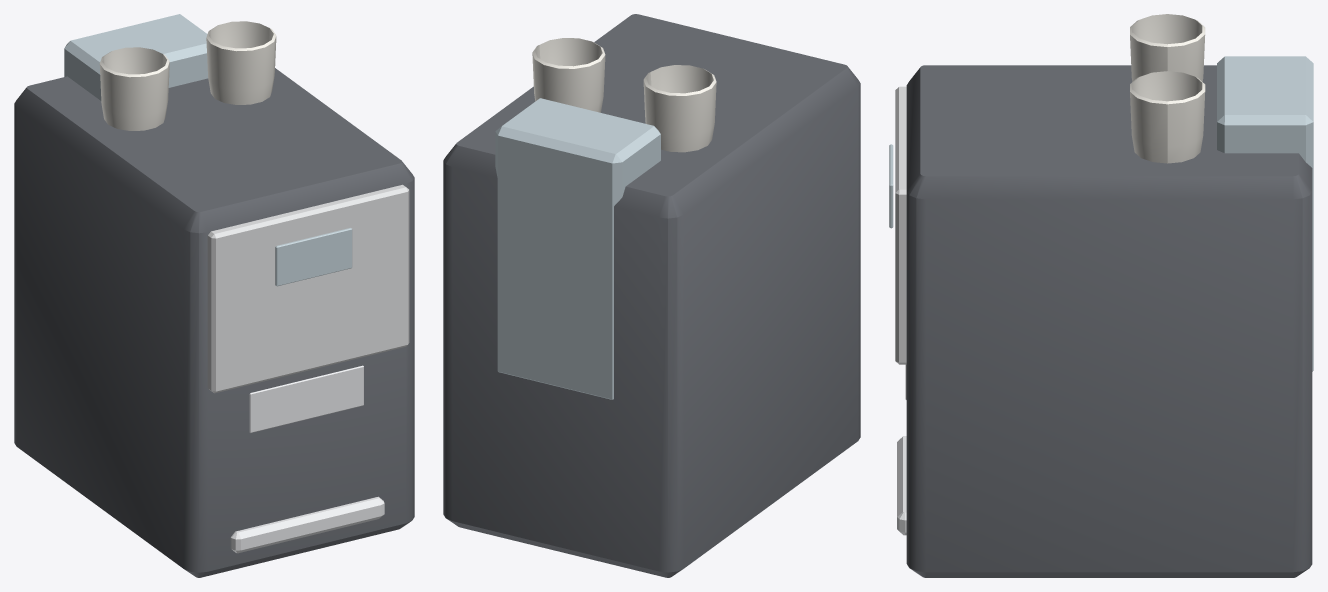
The model's file is police-station-and-detective-office-coffee-machine-180073a1__29963.glb.
3 renders of one model, left to right at view 1: azimuth 30°, elevation 25°; view 2: azimuth 150°, elevation 25°; view 3: azimuth 270°, elevation 25°, orthographic. The views are drawn at different scales.
Parts seen in each view (by area): view 1: coffee-machine; view 2: coffee-machine; view 3: coffee-machine.
Boxes of the visible parts, box(x1,y1,x2,y2) form: coffee-machine: box(14, 14, 414, 577); coffee-machine: box(443, 14, 860, 577); coffee-machine: box(889, 14, 1313, 577).
Bounding box in the file's own units: 0.3 × 0.5468 × 0.4392.
